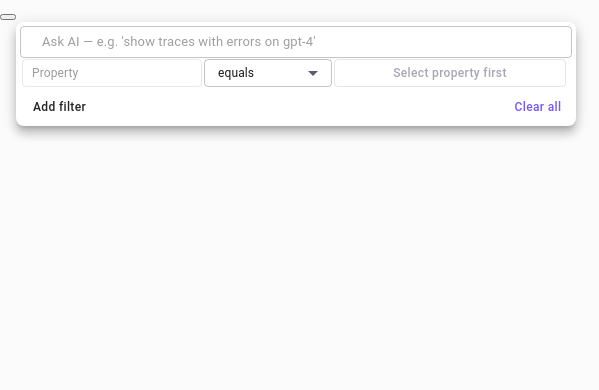
Test: voice-call property search aliases › renders the exact project-scoped category breakdown from the catalog
This screenshot has width=599, height=390.
Click the button "Property": (112, 73) [22, 59, 202, 87]
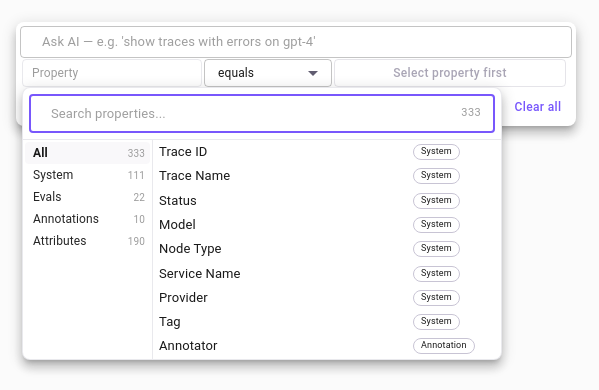
Expected: the text named "All property count" reads "333", [128, 148, 145, 159]
Expected: the text named "System property count" reads "111", [128, 170, 145, 181]
Expected: the text named "Evals property count" reads "22", [134, 192, 145, 203]
